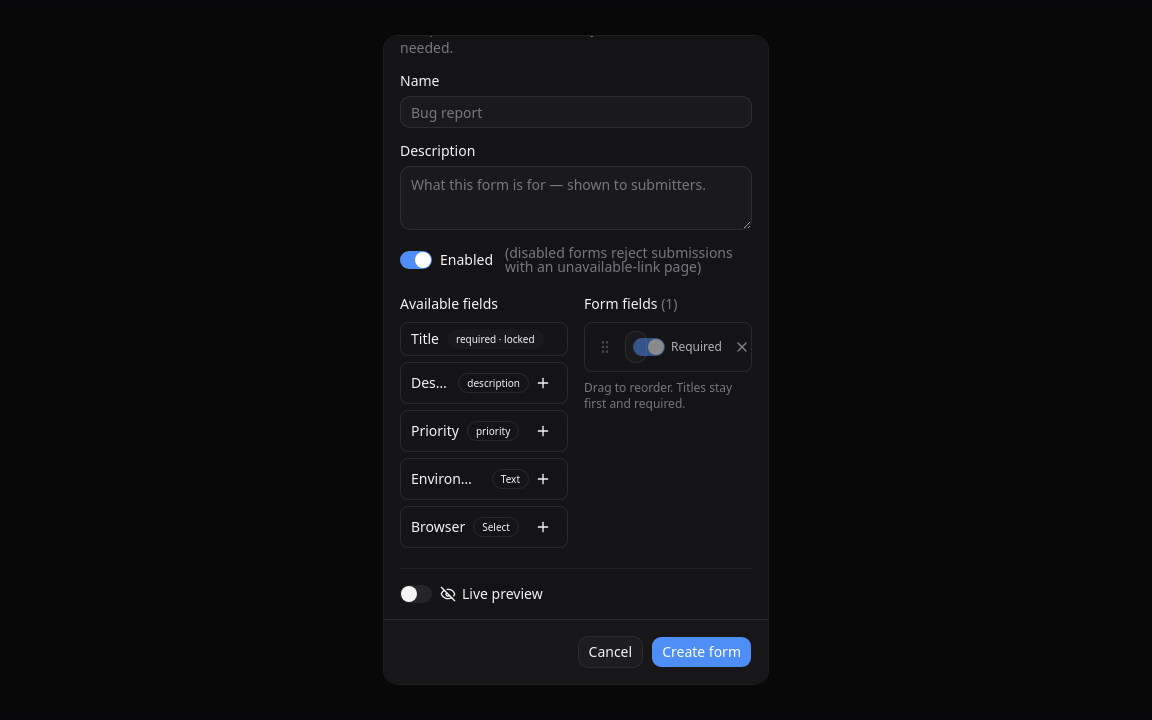
Test: FormBuilderDialog › shows a validation error when the name is empty
(page scrolled)
Click the button "Create form". click: (702, 652)
box: [651,636,752,668]
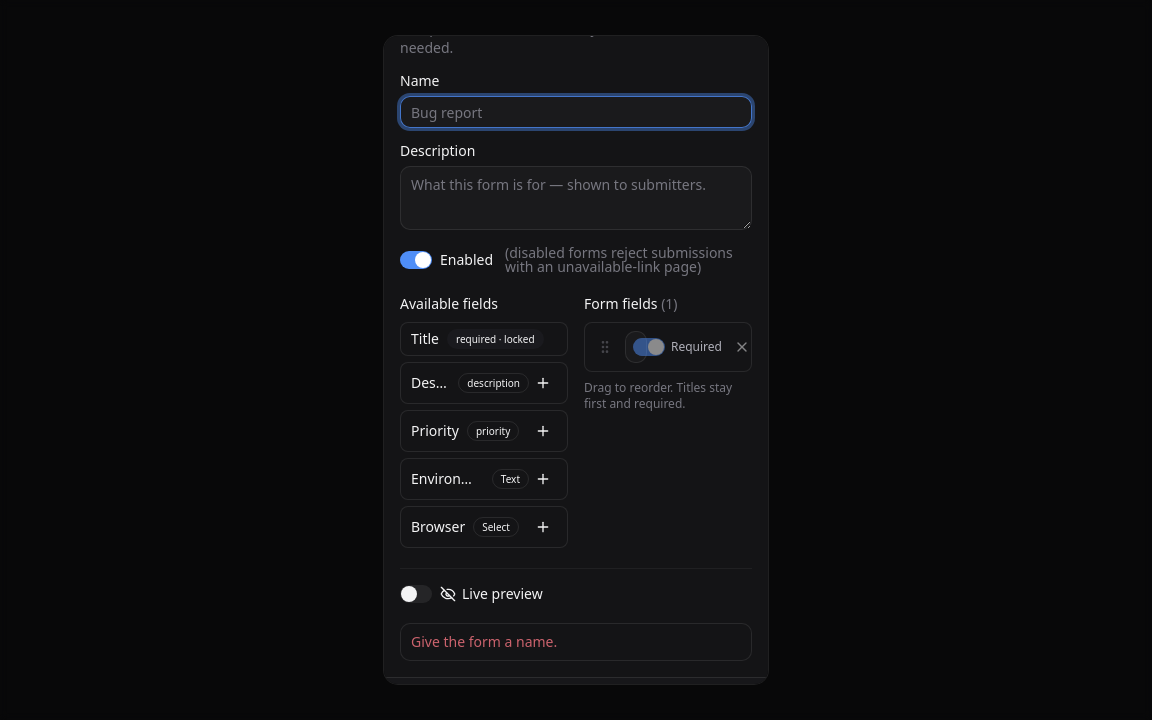
Check: the text "Give the form a name." is shown, box [411,632,557,651]
